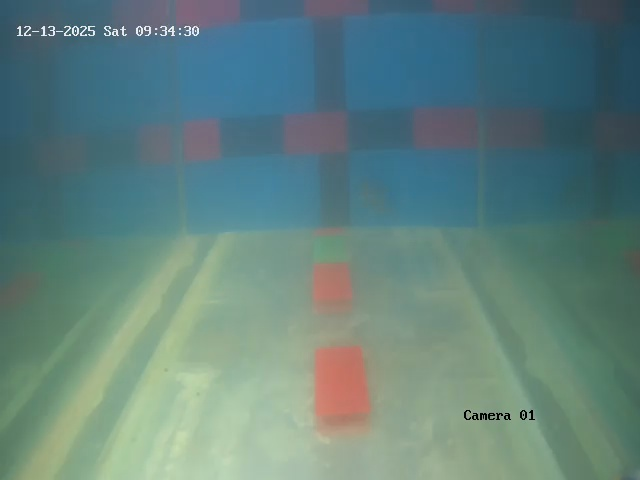fish: (361, 175, 392, 210)
